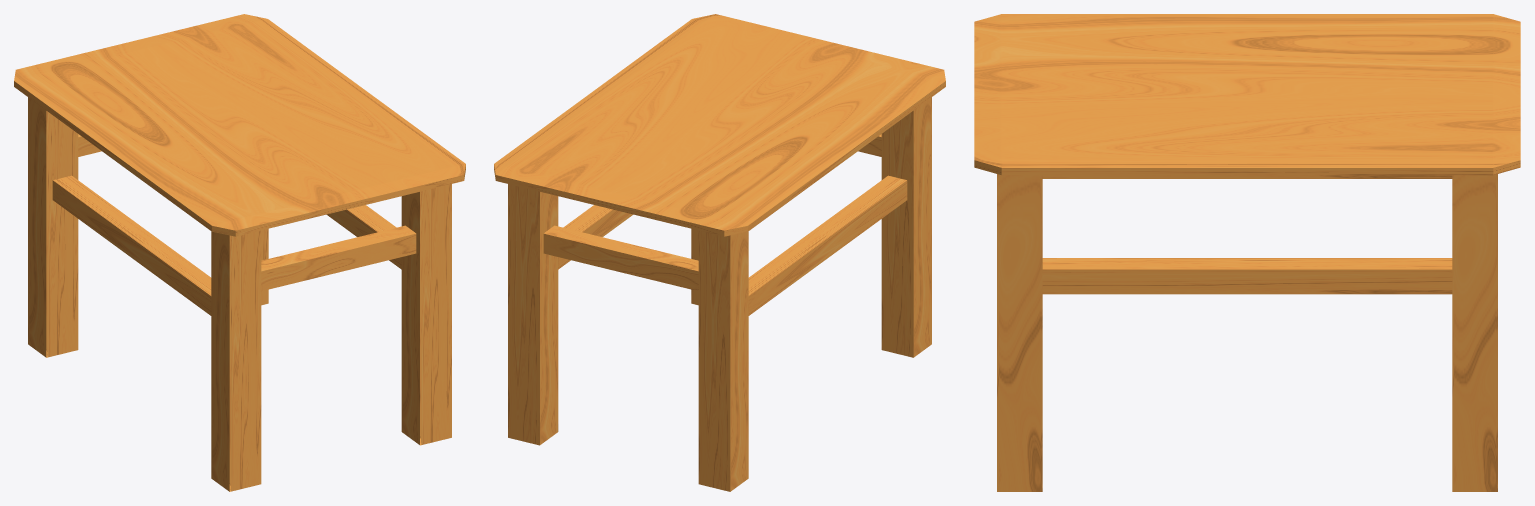
The model's file is table.fbx.
3 renders of one model, left to right at view 1: azimuth 30°, elevation 25°; view 2: azimuth 150°, elevation 25°; view 3: azimuth 270°, elevation 25°, orthographic. The views are drawn at different scales.
Parts seen in each view (by area): view 1: Cube, Cube.003, Cube.004, Cube.002, Cube.008, Cube.005, Cube.007; view 2: Cube, Cube.002, Cube.001, Cube.003, Cube.008, Cube.006, Cube.007; view 3: Cube, Cube.007, Cube.001, Cube.004, Cube.008.
Part boxes in pixels (left/top/right/bottom): Cube: left=14, top=14, right=465, bottom=236; Cube.003: left=211, top=230, right=261, bottom=491; Cube.004: left=401, top=184, right=451, bottom=445; Cube.002: left=28, top=97, right=78, bottom=357; Cube.008: left=52, top=175, right=211, bottom=315; Cube.005: left=261, top=225, right=416, bottom=291; Cube.007: left=326, top=205, right=401, bottom=269; Cube: left=494, top=14, right=945, bottom=236; Cube.002: left=698, top=230, right=748, bottom=491; Cube.001: left=508, top=184, right=558, bottom=445; Cube.003: left=881, top=97, right=931, bottom=357; Cube.008: left=748, top=175, right=907, bottom=315; Cube.006: left=543, top=225, right=698, bottom=291; Cube.007: left=558, top=205, right=633, bottom=269; Cube: left=974, top=14, right=1520, bottom=175; Cube.007: left=1042, top=258, right=1452, bottom=294; Cube.001: left=1452, top=174, right=1497, bottom=491; Cube.004: left=997, top=174, right=1042, bottom=491; Cube.008: left=1042, top=175, right=1452, bottom=178.
Size of the model in its own units: 800 by 810 by 1200.
